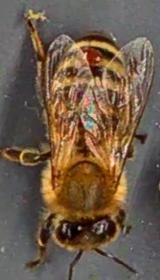varroa_mite: (72, 40, 104, 72)
